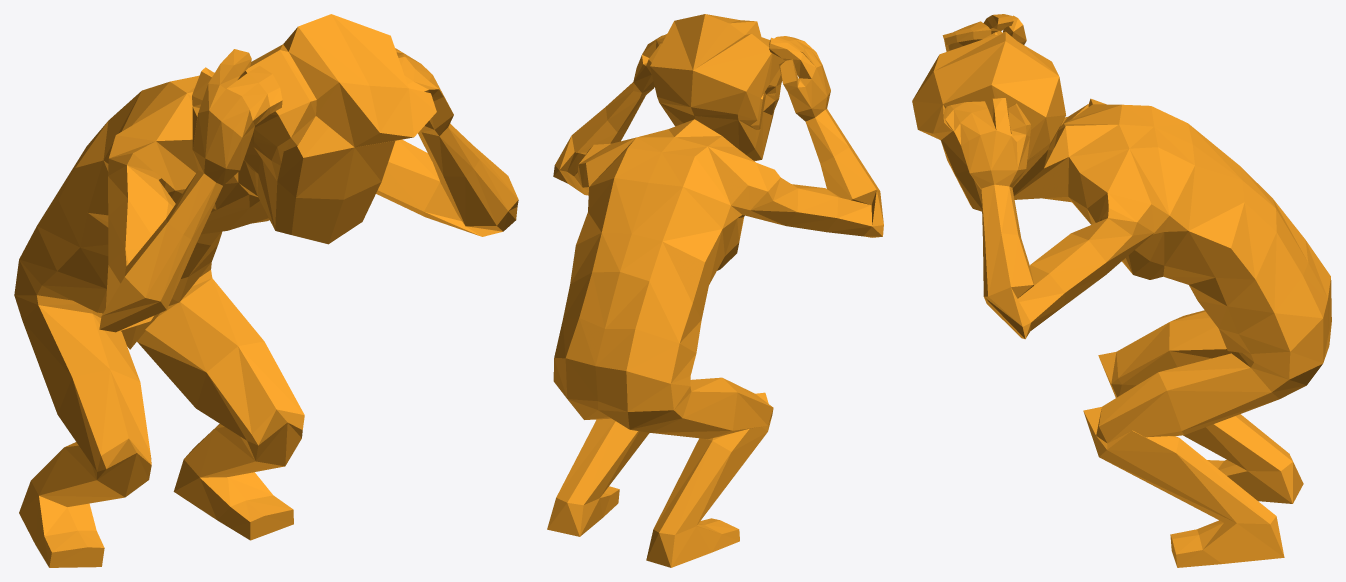
File: SM_Pawn_Cower_Male_01.fbx
The picture shows the model from 3 angles, left to right: view 1: azimuth 30°, elevation 25°; view 2: azimuth 150°, elevation 25°; view 3: azimuth 270°, elevation 25°; orthographic projection. The views are drawn at different scales.
Visible parts, largest first — view 1: SM_Pawn_Cower_Male_01; view 2: SM_Pawn_Cower_Male_01; view 3: SM_Pawn_Cower_Male_01.
Boxes of the visible parts, bbox=[...] form: SM_Pawn_Cower_Male_01: bbox=[14, 14, 518, 567]; SM_Pawn_Cower_Male_01: bbox=[547, 14, 883, 567]; SM_Pawn_Cower_Male_01: bbox=[912, 14, 1331, 567].
Bounding box in the file's own units: 85.06 × 113 × 85.62.
